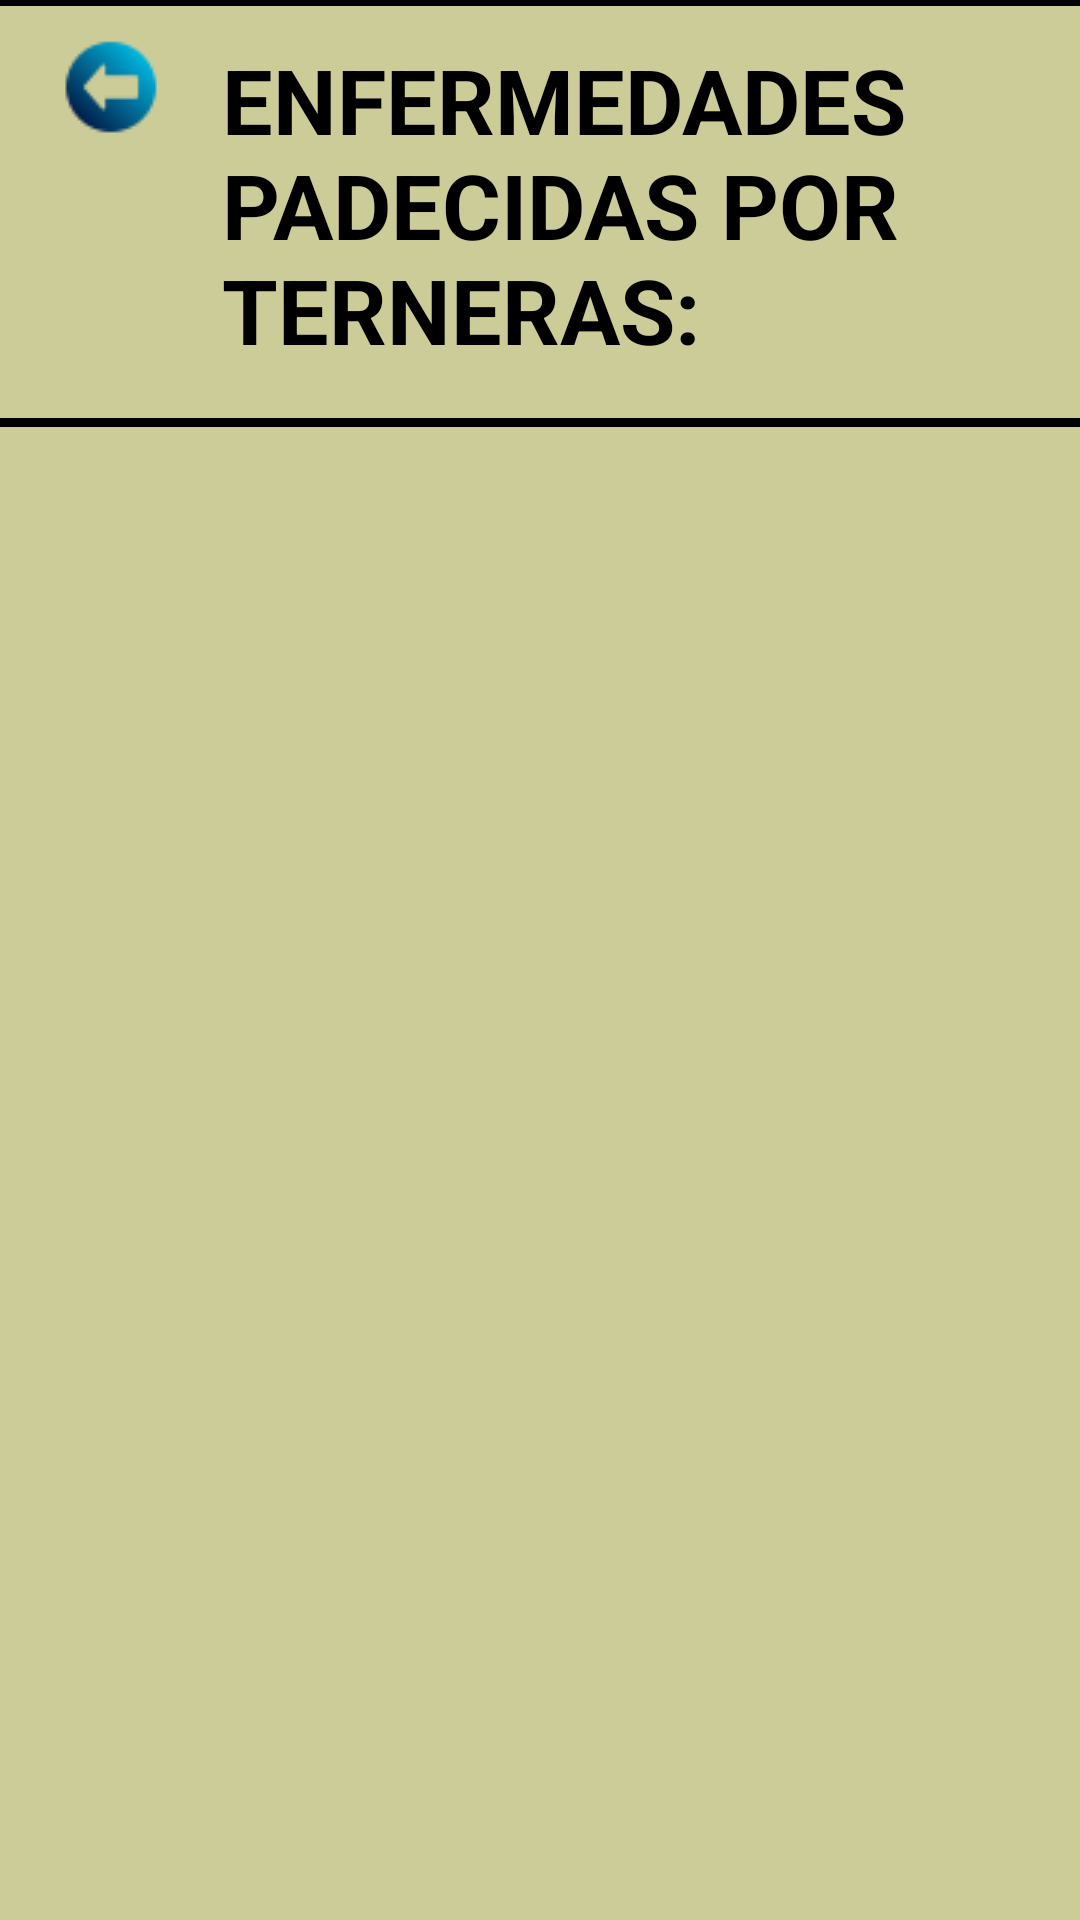

Icons on this 1080px x 1920px Android screen, each with the point to tap as point (x, y):
back: point (111, 87)
